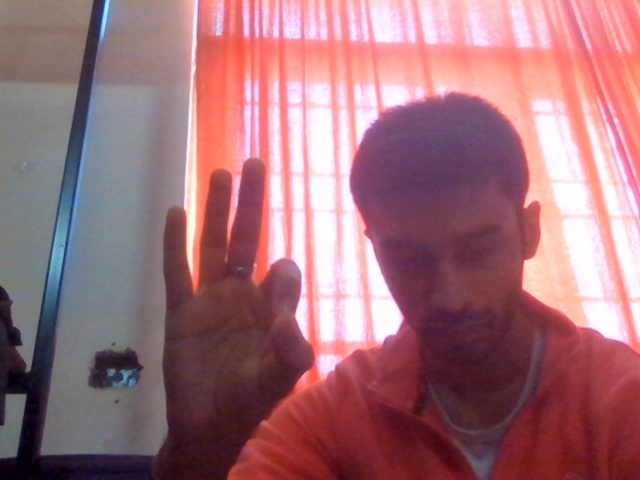F: (118, 146, 336, 480)
